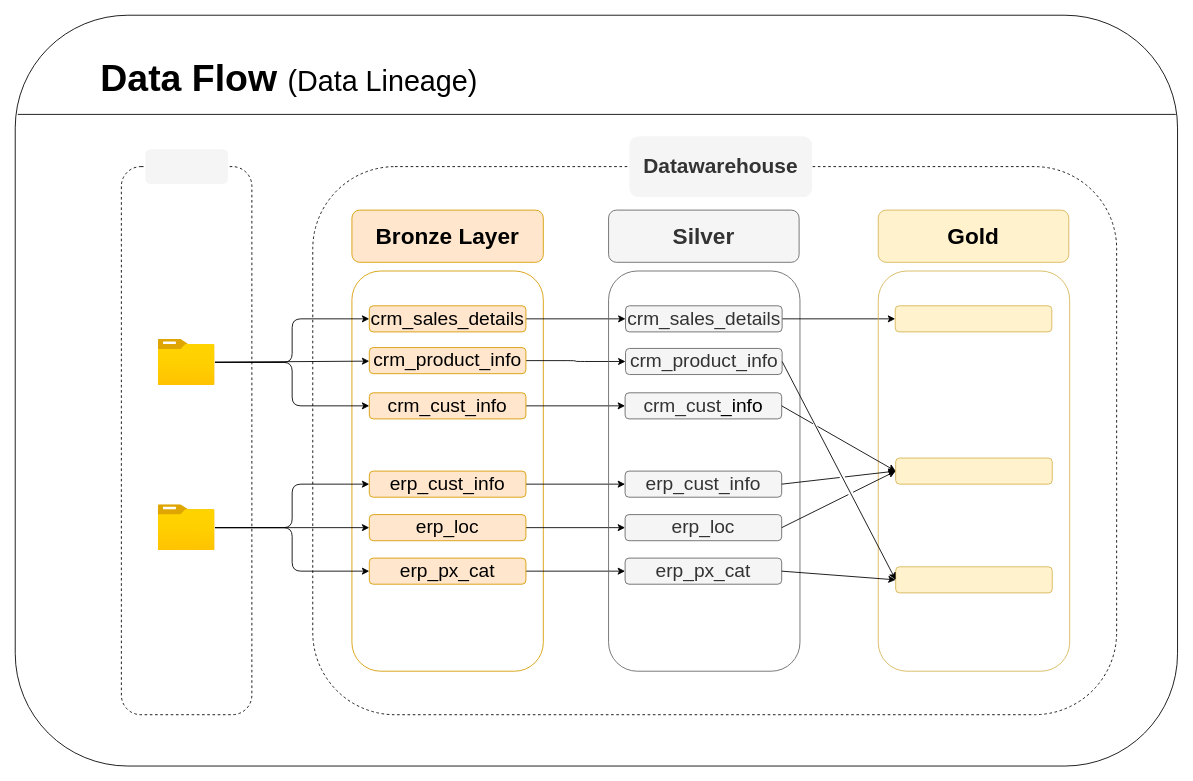
This 1193x781 diagram has some shape labels left out. Here are the shapes that lost their labels. From the top down, the centre of each, then its label:
At pixel 186 166: "Sources".
At pixel 973 318: "fact_sales".
At pixel 186 362: "CRM".
At pixel 973 470: "dim_customers".
At pixel 186 527: "ERP".
At pixel 973 579: "dim_products".
